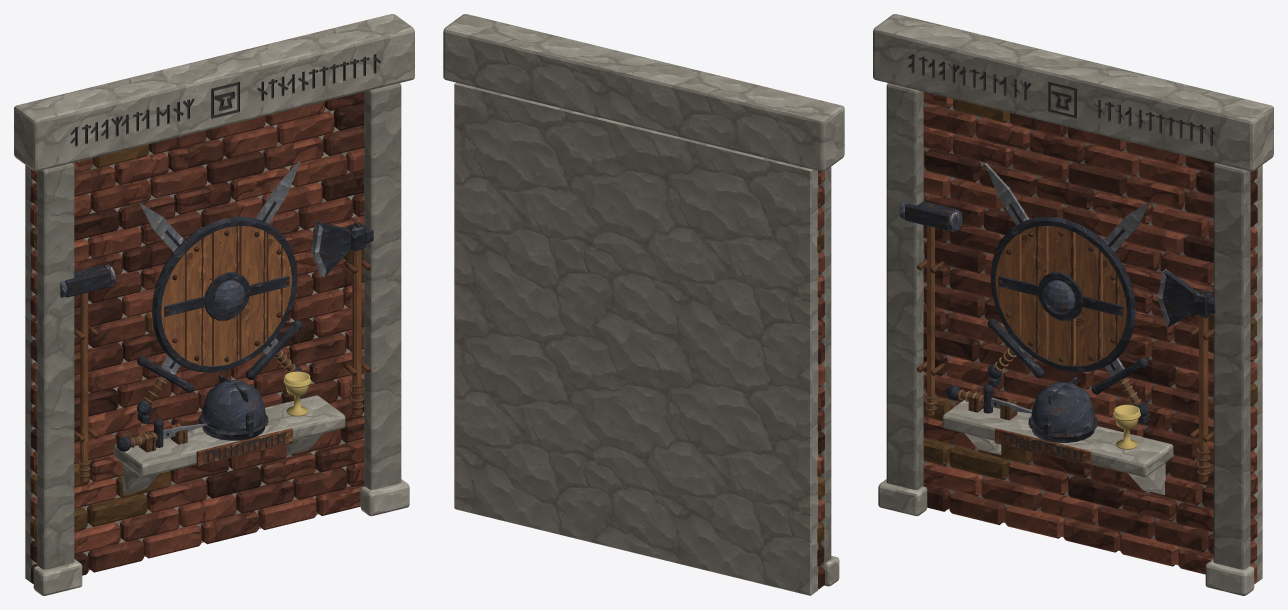
Rendered from ef_master_display.glb.
3 views of the same model, side by side, from view 1: azimuth 30°, elevation 25°; view 2: azimuth 150°, elevation 25°; view 3: azimuth 330°, elevation 25° (orthographic).
Visible parts, largest first — view 1: model; view 2: model; view 3: model.
Boxes of the visible parts, x1,y1,x2,y2 form: model: (14, 14, 414, 595); model: (443, 14, 844, 595); model: (873, 14, 1273, 595).
Bounding box in the file's own units: 1.68 × 2.01 × 0.3343.
Materials: 23 (21 with a texture image).
